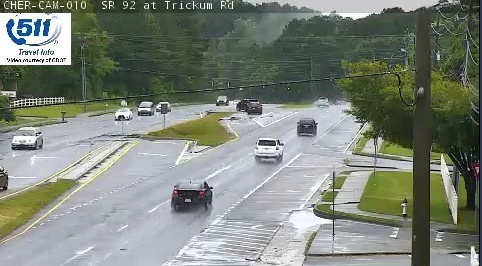car: (171, 181, 212, 205), (255, 137, 283, 158), (297, 118, 316, 136)
